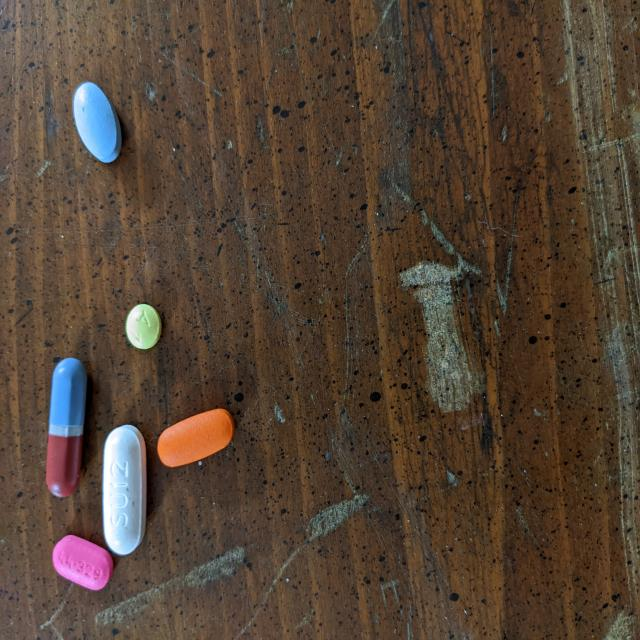non-organic waste: (101, 422, 147, 558), (45, 357, 88, 498), (156, 408, 235, 469), (72, 80, 123, 165), (51, 534, 114, 592), (125, 302, 163, 351)
